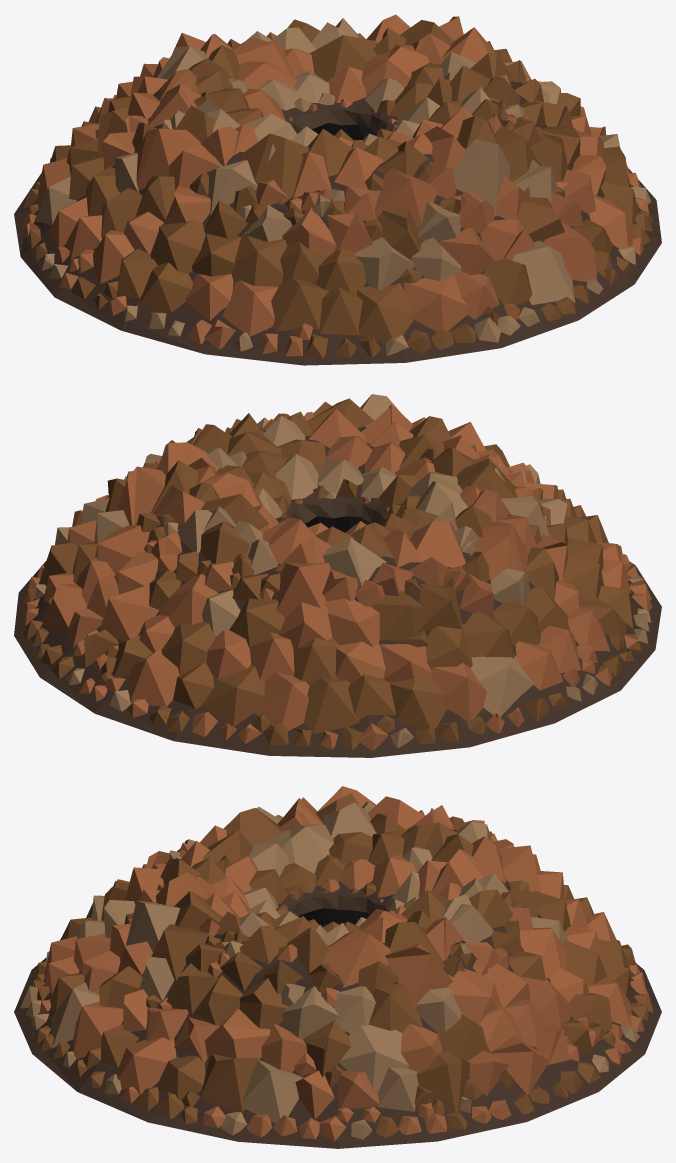
File: ant-nest-entrance-mound-f6136c.glb
3 renders of one model, top to bottom at view 1: azimuth 30°, elevation 25°; view 2: azimuth 150°, elevation 25°; view 3: azimuth 270°, elevation 25°, orthographic.
Visible parts, largest first — view 1: entrance-mound-mesh; view 2: entrance-mound-mesh; view 3: entrance-mound-mesh.
Part boxes in pixels (<box>): entrance-mound-mesh: <box>14,14,661,365</box>; entrance-mound-mesh: <box>14,394,661,757</box>; entrance-mound-mesh: <box>14,786,661,1148</box>.
Bounding box in the file's own units: 8 × 2.06 × 8.
